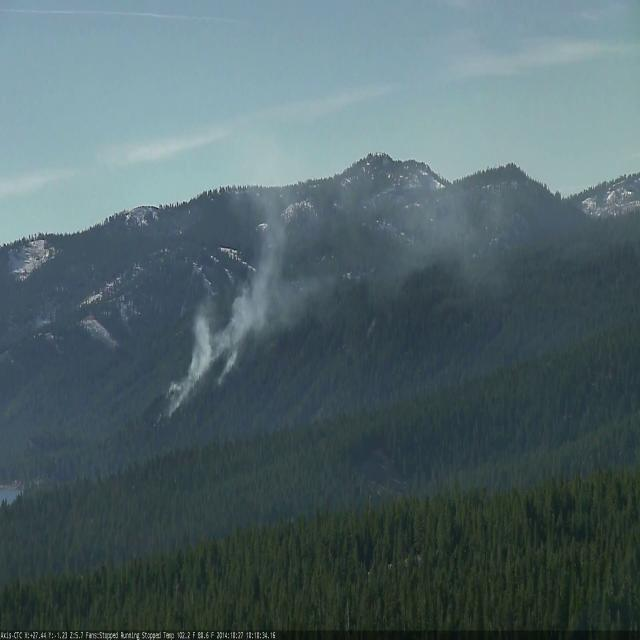smoke: (150, 113, 533, 430)
